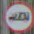Heavy Vehicles: (2, 1, 33, 32)
